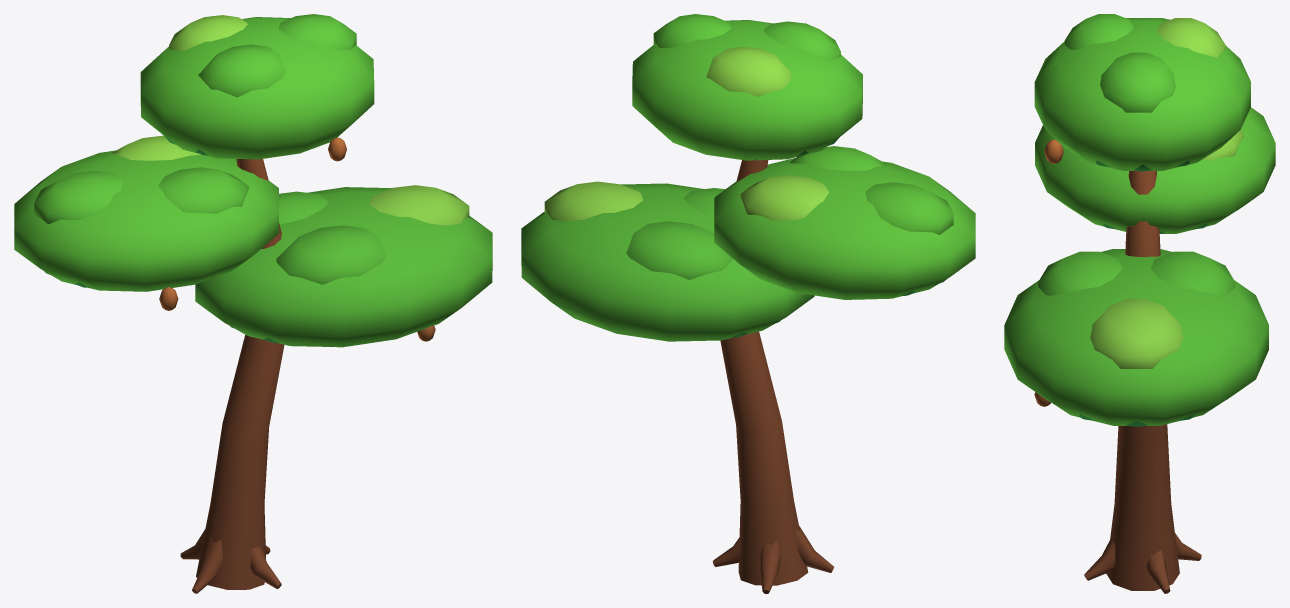
The model's file is tree_pine.glb.
3 renders of one model, left to right at view 1: azimuth 30°, elevation 25°; view 2: azimuth 150°, elevation 25°; view 3: azimuth 270°, elevation 25°, orthographic. The views are drawn at different scales.
Parts seen in each view (by area): view 1: tree_pine; view 2: tree_pine; view 3: tree_pine.
Part boxes in pixels (left/top/right/bottom): tree_pine: left=14, top=14, right=492, bottom=593; tree_pine: left=521, top=14, right=975, bottom=593; tree_pine: left=1004, top=14, right=1275, bottom=593.
Bounding box in the file's own units: 4.22 × 4.95 × 2.2.
